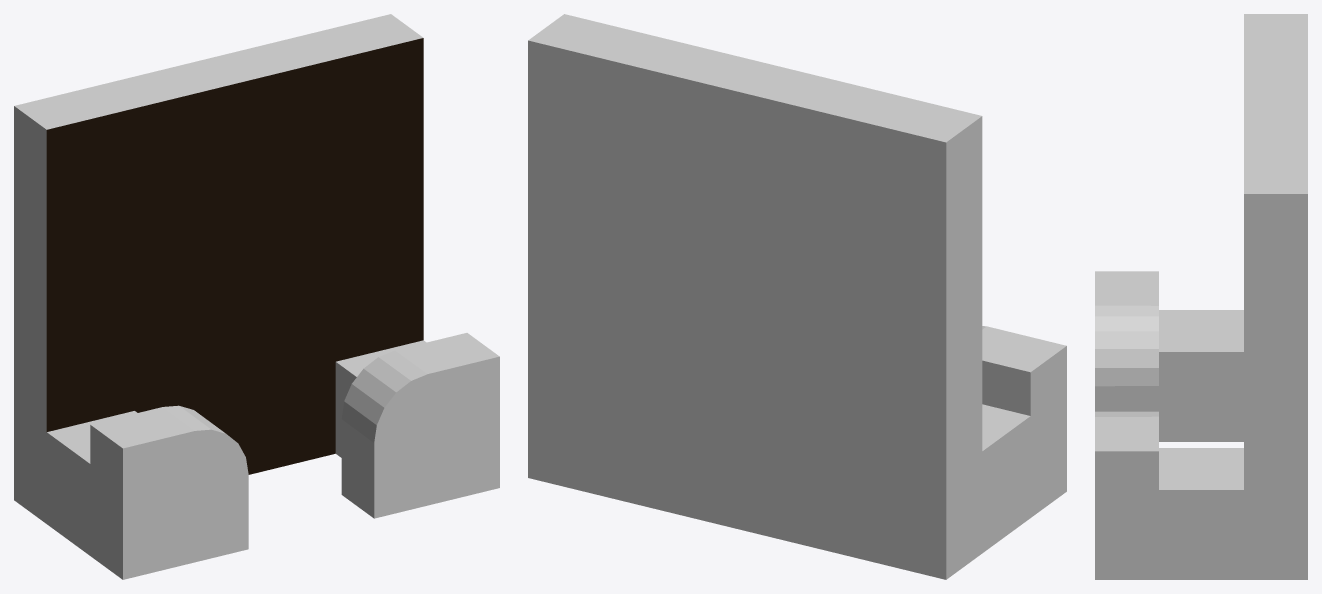
File: block_edge_same.fbx
3 renders of one model, left to right at view 1: azimuth 30°, elevation 25°; view 2: azimuth 150°, elevation 25°; view 3: azimuth 270°, elevation 25°, orthographic. The views are drawn at different scales.
Visible parts, largest first — view 1: block_edge_same; view 2: block_edge_same; view 3: block_edge_same.
Part boxes in pixels (bbox=[...]): block_edge_same: bbox=[14, 14, 499, 579]; block_edge_same: bbox=[528, 14, 1066, 579]; block_edge_same: bbox=[1095, 14, 1307, 579].
Size of the model in its own units: 0.2 by 0.2 by 0.1.
